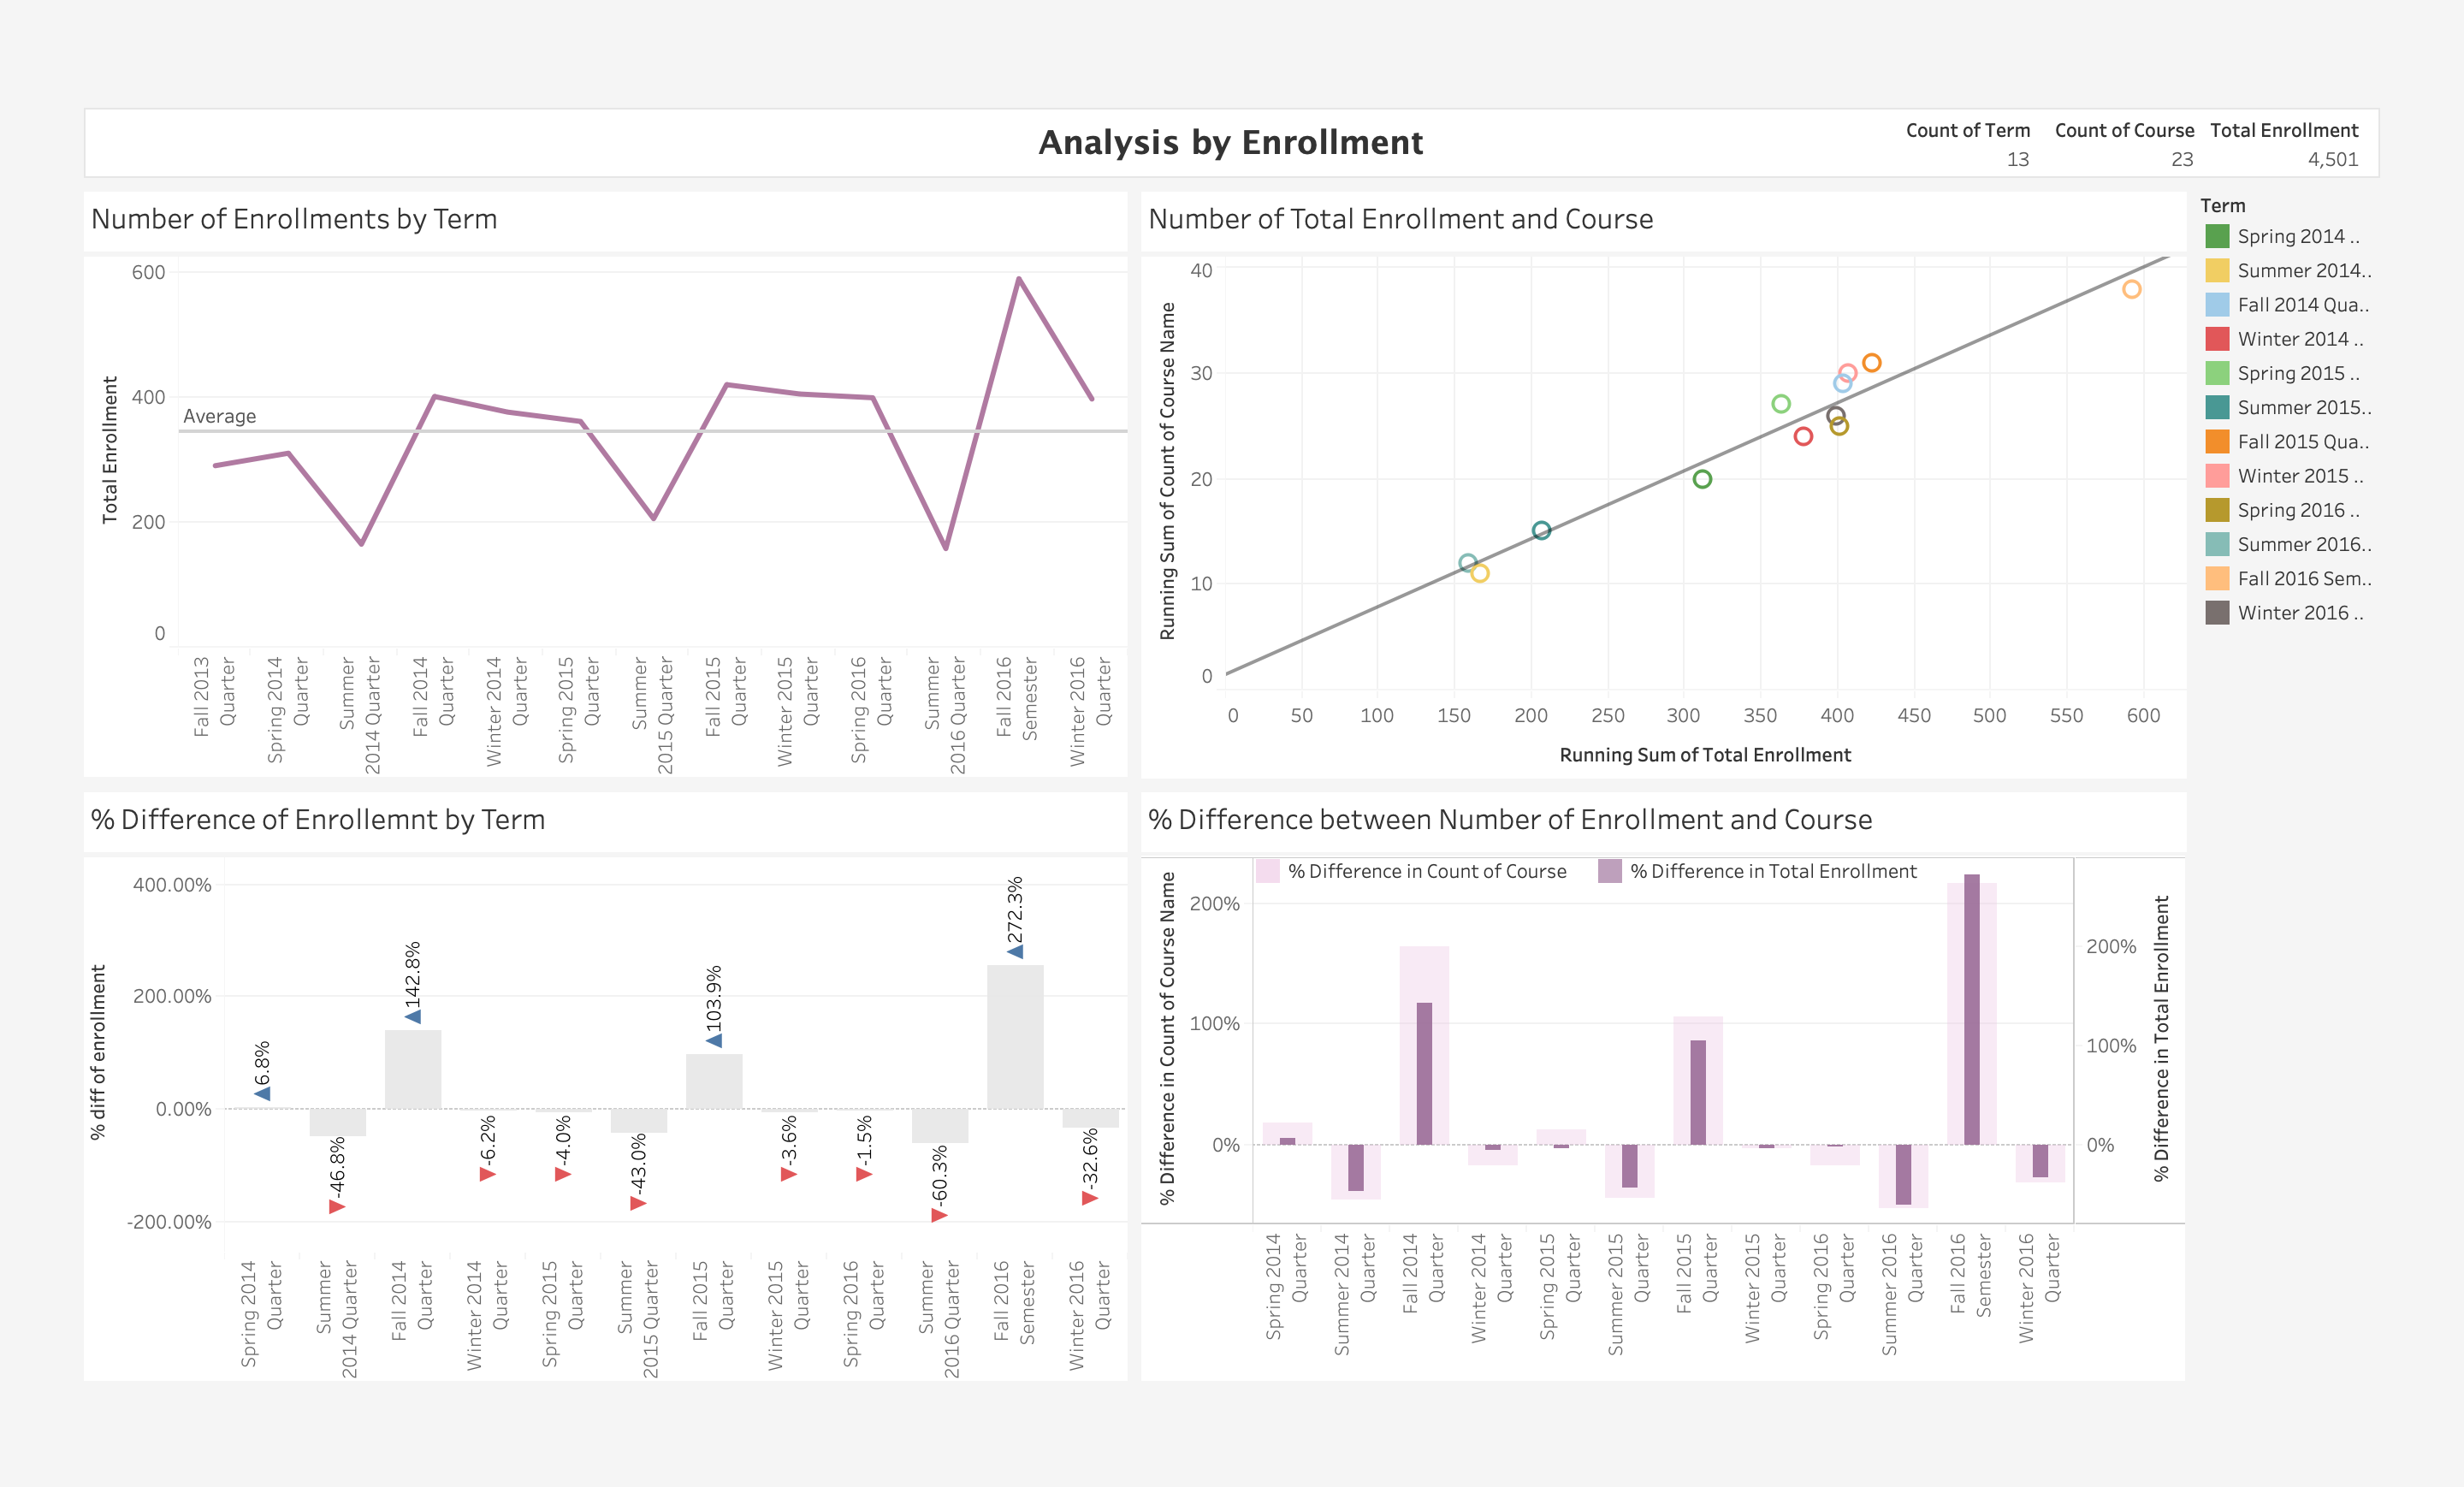

What the dashboard file says about the page in this screenshot:
{"tool":"tableau","page":{"name":"DB 1","canvas":[1366,768],"ordinal":0},"visuals":[{"type":"worksheet","box":[0,0,1366,768]},{"type":"worksheet","param":"vert","box":[8,8,1350,752]},{"type":"worksheet","box":[8,8,1350,49]},{"type":"worksheet","title":"Sheet 24","mark":"Automatic","box":[1058,14,289,37]},{"type":"worksheet","param":"horz","box":[8,57,1350,703]},{"type":"worksheet","box":[8,57,1237,703]},{"type":"worksheet","title":"Enroll0","mark":"Line","rows":["TotalEnrollment"],"cols":["Term"],"box":[8,57,618,351.4]},{"type":"worksheet","title":"Enroll2","mark":"Shape","rows":["CourseName"],"cols":["TotalEnrollment"],"box":[626,57,619,351.4]},{"type":"worksheet","box":[1245,57,113,703]},{"type":"worksheet","param":"vert","box":[1245,57,113,703]},{"type":"worksheet","title":"Enroll2","mark":"Shape","rows":["CourseName"],"cols":["TotalEnrollment"],"param":"[federated.0zqdbw31duuybc19380m10dxv1je].[none:Term:nk]","box":[1245,57,113,264]},{"type":"worksheet","title":"Enroll","mark":"Automatic","rows":["Calculation2"],"cols":["Term"],"box":[8,408.4,618.4,351.6]},{"type":"worksheet","title":"Enroll3","mark":"Bar","rows":["CourseName","TotalEnrollment"],"cols":["Term"],"box":[626.4,408.4,618.6,351.6]},{"type":"worksheet","title":"Enroll3","mark":"Bar","rows":["CourseName","TotalEnrollment"],"cols":["Term"],"param":"[federated.0zqdbw31duuybc19380m10dxv1je].[:Measure Names]","box":[694,432,413,39]}]}

Visuals, with their boxes on the page's 1366x768 design canvas (x1, y1, x2, y2). These are canvas units, not pixel positions in the 2464x1487 screenshot, which may show the page scaled, cropped or inside an application window:
worksheet: detection(0, 0, 1366, 768)
worksheet: detection(8, 8, 1358, 760)
worksheet: detection(8, 8, 1358, 57)
"Sheet 24" worksheet: detection(1058, 14, 1347, 51)
worksheet: detection(8, 57, 1358, 760)
worksheet: detection(8, 57, 1245, 760)
"Enroll0" worksheet (Line marks): detection(8, 57, 626, 408)
"Enroll2" worksheet (Shape marks): detection(626, 57, 1245, 408)
worksheet: detection(1245, 57, 1358, 760)
worksheet: detection(1245, 57, 1358, 760)
"Enroll2" worksheet (Shape marks): detection(1245, 57, 1358, 321)
"Enroll" worksheet: detection(8, 408, 626, 760)
"Enroll3" worksheet (Bar marks): detection(626, 408, 1245, 760)
"Enroll3" worksheet (Bar marks): detection(694, 432, 1107, 471)
